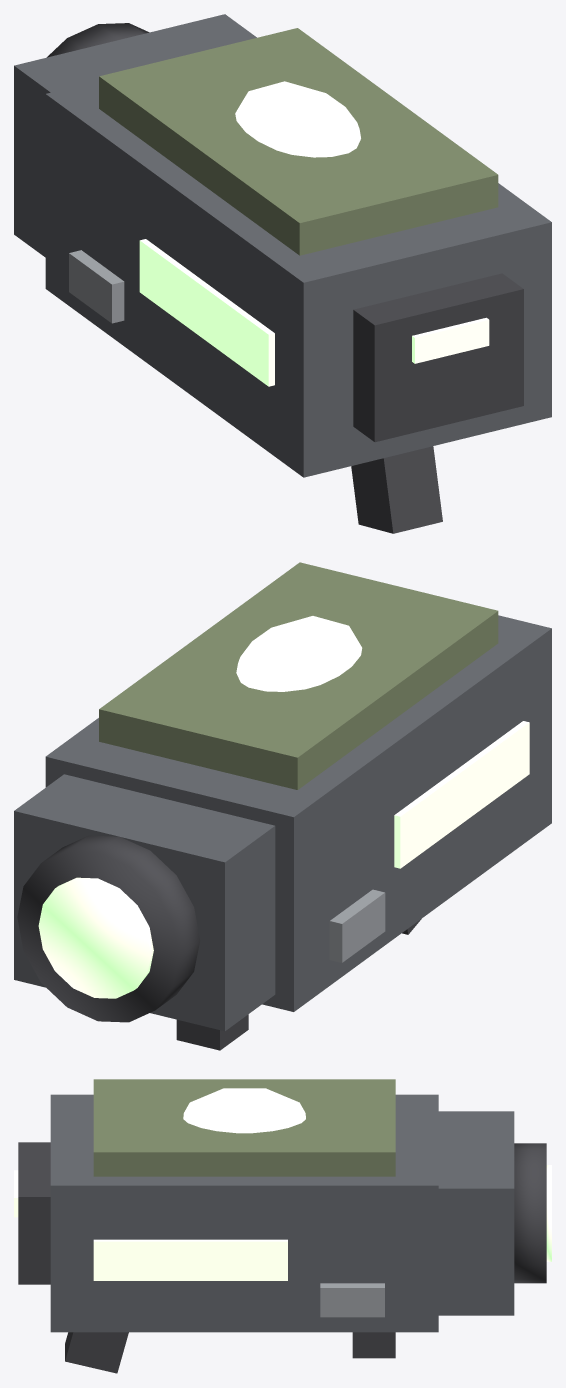
The model's file is plasma_held.gltf.
The picture shows the model from 3 angles, top to bottom: view 1: azimuth 30°, elevation 25°; view 2: azimuth 150°, elevation 25°; view 3: azimuth 270°, elevation 25°; orthographic projection. The views are drawn at different scales.
Visible parts, largest first — view 1: plasma_held; view 2: plasma_held; view 3: plasma_held.
Part boxes in pixels (x1,y1,x2,y2): plasma_held: (14, 14, 551, 533); plasma_held: (14, 562, 551, 1050); plasma_held: (14, 1079, 551, 1373).
Size of the model in its own units: 0.22 by 0.2796 by 0.499.
